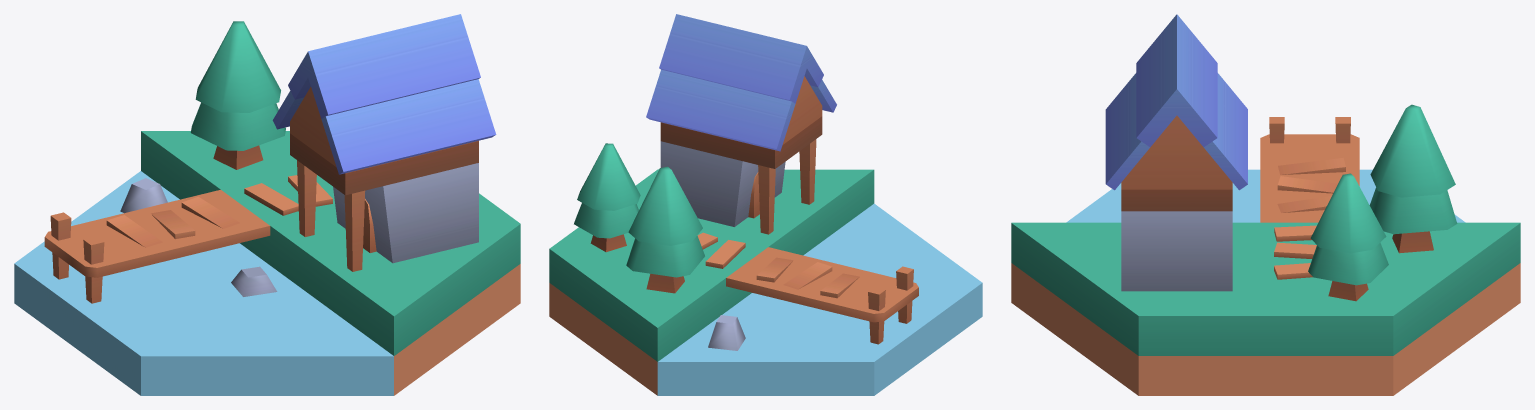
Rendered from kenney-hexagon-building-port.glb.
The picture shows the model from 3 angles, left to right: view 1: azimuth 30°, elevation 25°; view 2: azimuth 150°, elevation 25°; view 3: azimuth 270°, elevation 25°; orthographic projection. The views are drawn at different scales.
Visible parts, largest first — view 1: building_port; view 2: building_port; view 3: building_port.
Boxes of the visible parts, x1=… form: building_port: x1=14, y1=14, x2=520, y2=395; building_port: x1=549, y1=14, x2=982, y2=395; building_port: x1=1011, y1=14, x2=1520, y2=395.
Bounding box in the file's own units: 1 × 0.7176 × 1.15.
Materials: 1 (1 with a texture image).
